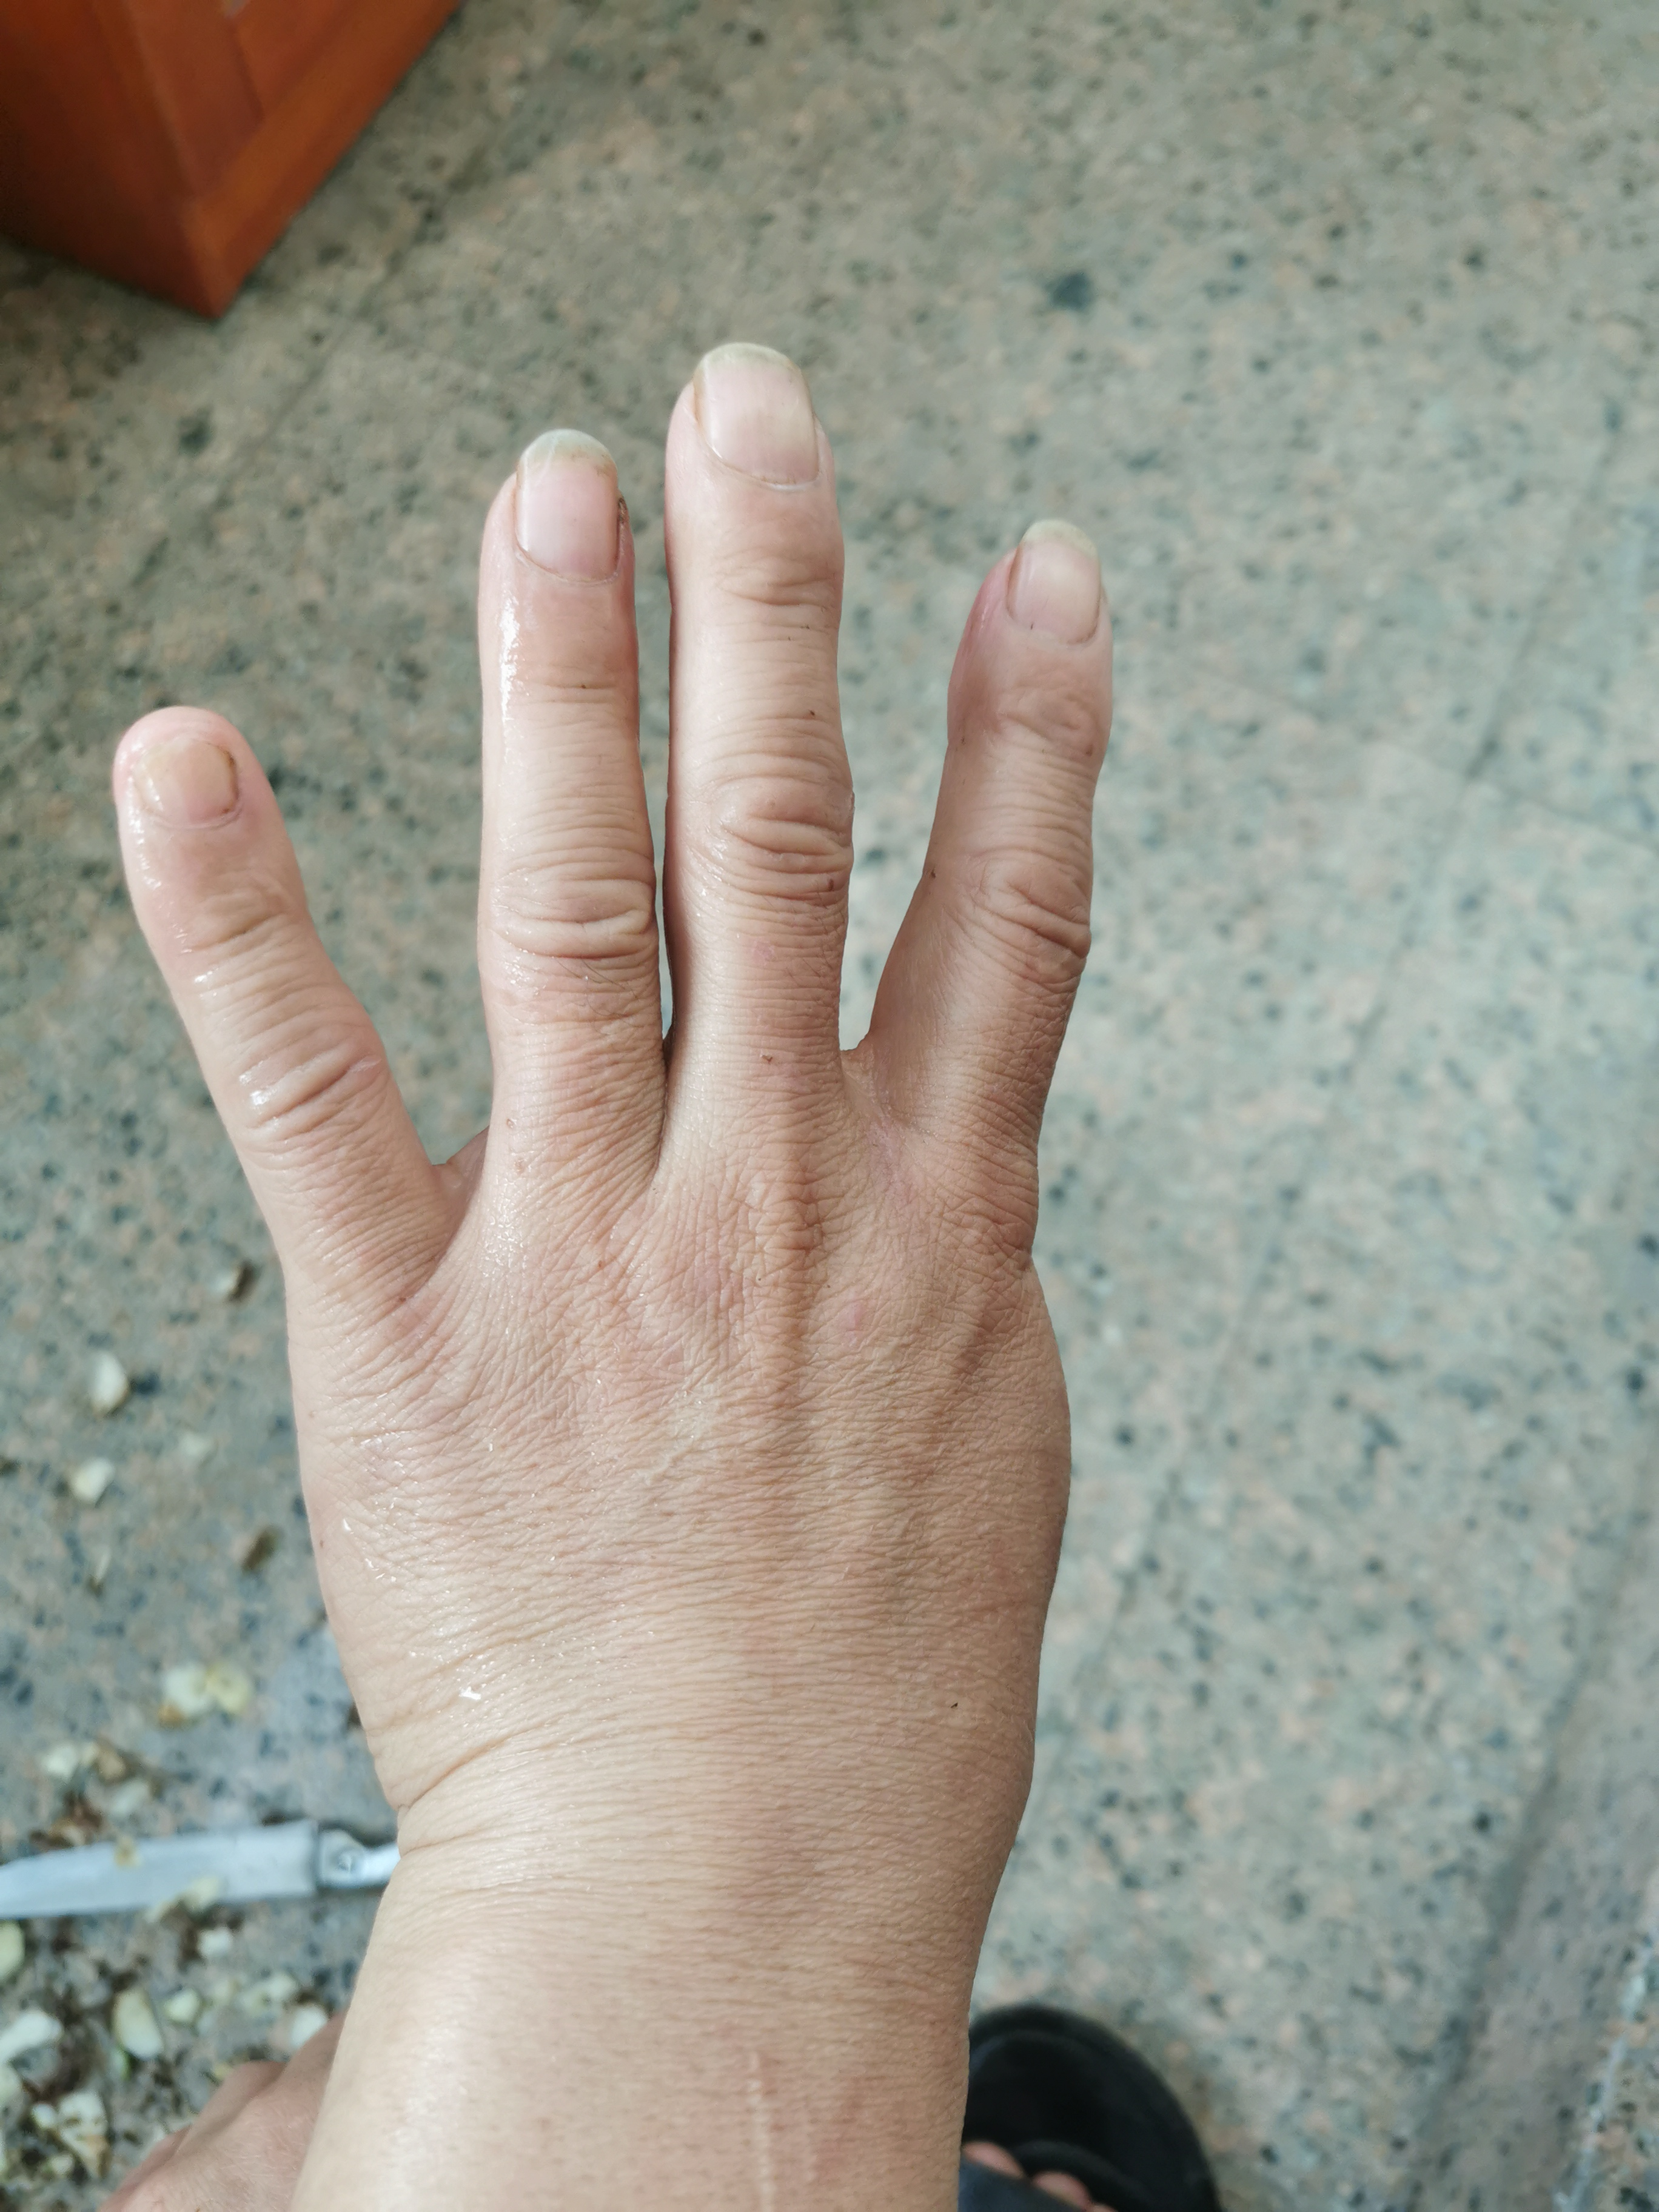right: (108, 334, 1138, 1860)
